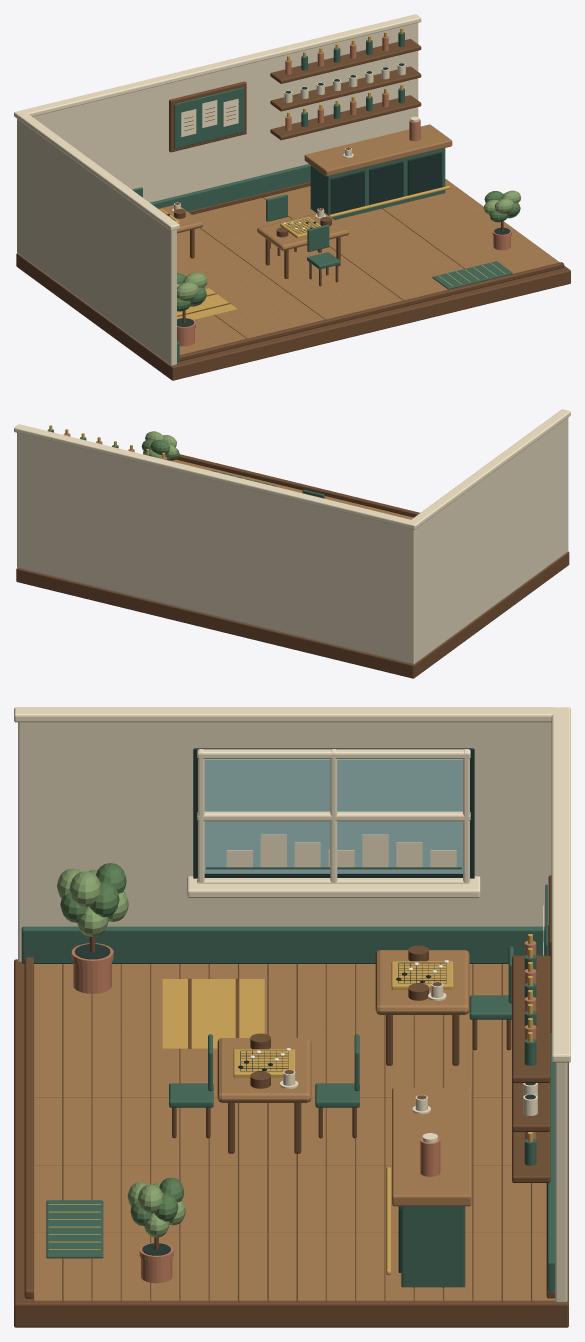
Rendered from room.glb.
The picture shows the model from 3 angles, top to bottom: view 1: azimuth 30°, elevation 25°; view 2: azimuth 150°, elevation 25°; view 3: azimuth 270°, elevation 25°; orthographic projection. The views are drawn at different scales.
Parts seen in each view (by area): view 1: Back plaster, Window wall, Room foundation, Wall cap, Bar top, Floor border.001, Wall skirting, Bar cabinet, Notice board, Left cap, Back shelf.002, Back shelf (+54 smaller); view 2: Back plaster, Window wall, Room foundation, Wall cap, Left cap, Floor border.001; view 3: Window wall, Room foundation, Sea glass, Left skirting, Left cap, Bar top, Wall cap, Sun on floor, Bar cabinet, Window sill, Table top.001, Table top (+90 smaller).
Part boxes in pixels (left/top/right/bottom): Back plaster: left=17, top=23, right=418, bottom=254; Window wall: left=19, top=120, right=176, bottom=365; Room foundation: left=16, top=199, right=570, bottom=380; Wall cap: left=14, top=14, right=421, bottom=119; Bar top: left=304, top=124, right=452, bottom=176; Floor border.001: left=179, top=262, right=564, bottom=361; Wall skirting: left=150, top=164, right=310, bottom=211; Bar cabinet: left=310, top=148, right=445, bottom=219; Notice board: left=174, top=87, right=244, bottom=148; Left cap: left=16, top=110, right=179, bottom=230; Back shelf.002: left=270, top=39, right=421, bottom=83; Back shelf: left=270, top=95, right=421, bottom=140; Back plaster: left=17, top=433, right=416, bottom=664; Window wall: left=415, top=418, right=568, bottom=662; Room foundation: left=16, top=551, right=569, bottom=678; Wall cap: left=14, top=424, right=419, bottom=529; Left cap: left=408, top=409, right=570, bottom=525; Floor border.001: left=176, top=454, right=419, bottom=517; Window wall: left=18, top=722, right=551, bottom=962; Room foundation: left=14, top=959, right=568, bottom=1327; Sea glass: left=204, top=759, right=462, bottom=873; Left skirting: left=21, top=926, right=545, bottom=963; Left cap: left=14, top=707, right=566, bottom=722; Bar top: left=392, top=1087, right=471, bottom=1206; Wall cap: left=551, top=707, right=570, bottom=1062; Sun on floor: left=162, top=979, right=264, bottom=1048; Bar cabinet: left=401, top=1206, right=465, bottom=1288; Window sill: left=187, top=876, right=480, bottom=897; Table top.001: left=217, top=1038, right=311, bottom=1102; Table top: left=375, top=950, right=469, bottom=1014.
Size of the model in its own units: 10.7 by 3.93 by 7.22.
